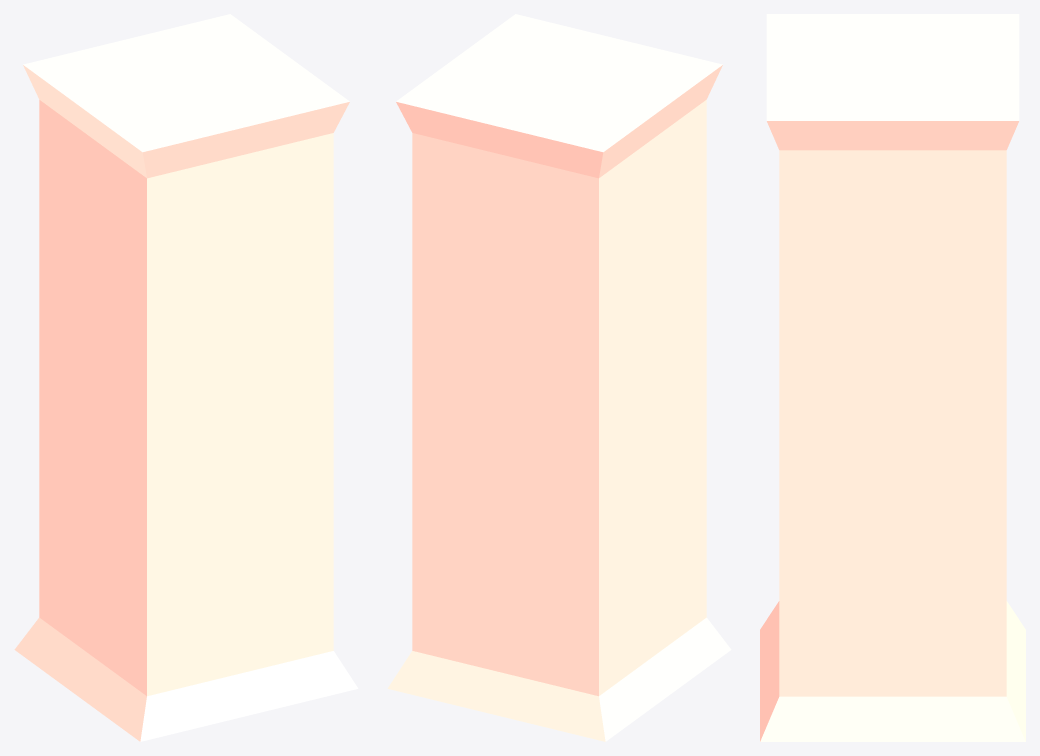
The model's file is saule_platz.fbx.
3 renders of one model, left to right at view 1: azimuth 30°, elevation 25°; view 2: azimuth 150°, elevation 25°; view 3: azimuth 270°, elevation 25°, orthographic. The views are drawn at different scales.
Parts seen in each view (by area): view 1: Cube; view 2: Cube; view 3: Cube.
Part boxes in pixels (x1,y1,x2,y2): Cube: (14,14,358,741); Cube: (387,14,731,741); Cube: (760,14,1025,741).
Size of the model in its own units: 2.34 by 6 by 2.34.
